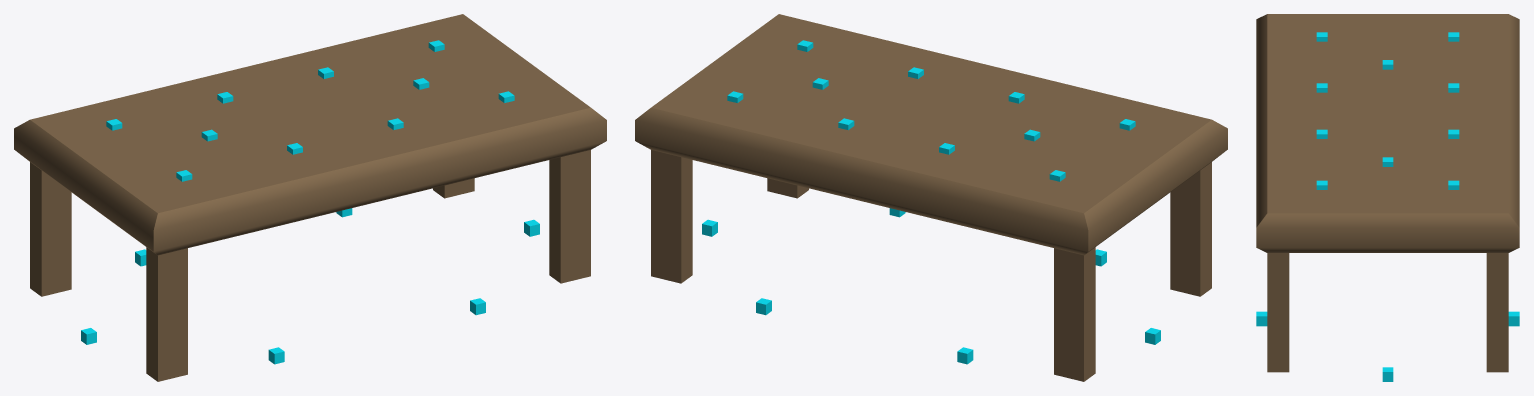
Rendered from table01.fbx.
3 views of the same model, side by side, from view 1: azimuth 30°, elevation 25°; view 2: azimuth 150°, elevation 25°; view 3: azimuth 270°, elevation 25° (orthographic). The views are drawn at different scales.
Parts seen in each view (by area): view 1: table; view 2: table; view 3: table.
Part boxes in pixels (box(x1,y1,x2,y2)): table: box(14, 14, 606, 381); table: box(635, 14, 1227, 381); table: box(1256, 14, 1519, 372).
Bounding box in the file's own units: 0.9 × 0.34 × 0.48.
